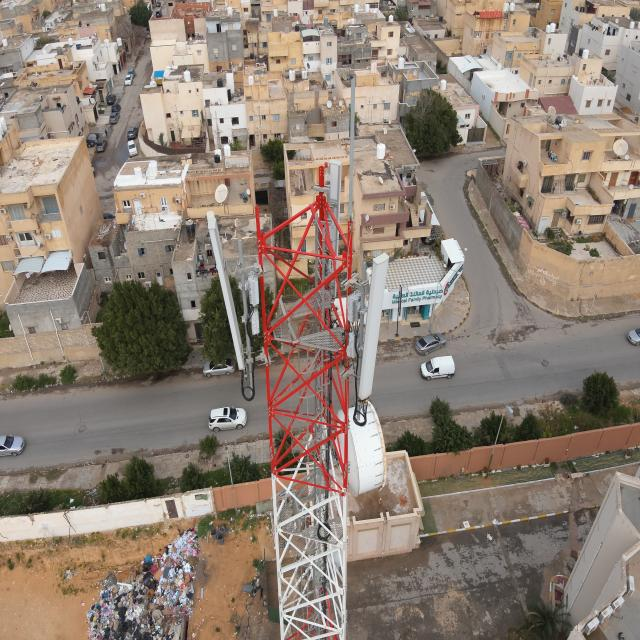Ground Based: (201, 65, 397, 640)
